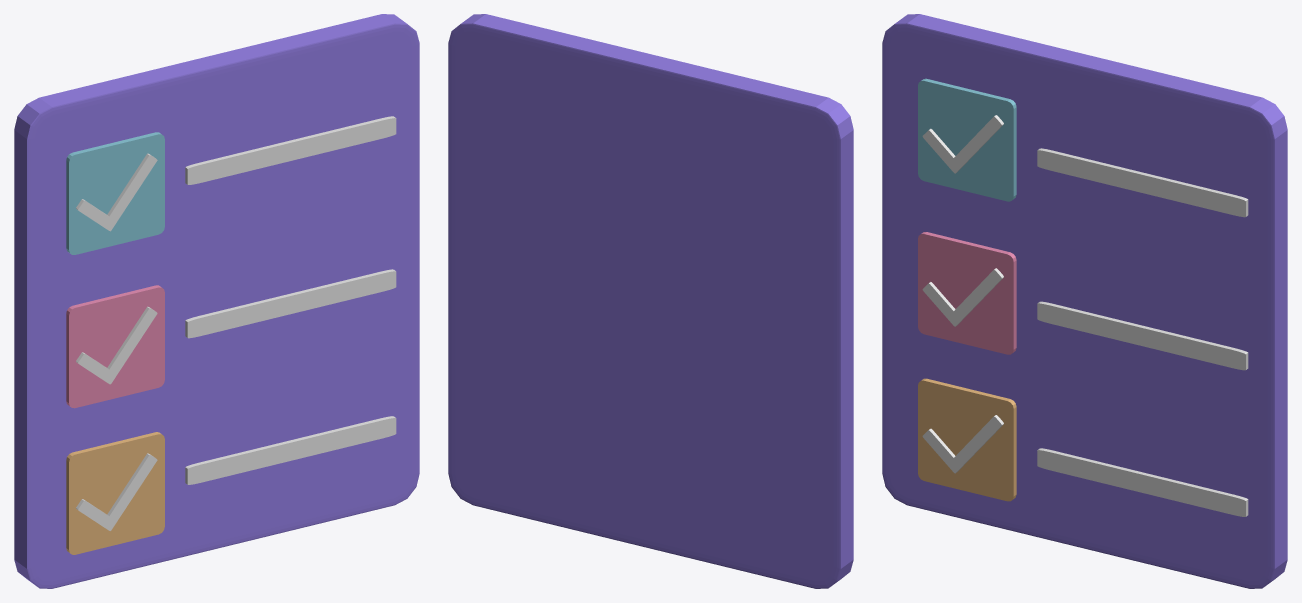
File: Checklist_purple.glb
3 views of the same model, side by side, from view 1: azimuth 30°, elevation 25°; view 2: azimuth 150°, elevation 25°; view 3: azimuth 330°, elevation 25° (orthographic).
Visible parts, largest first — view 1: Cube, Box_Checklist, Box_Checklist.001, Box_Checklist.002, Text.001, Text.002, Text, Check_Mark.001, Check_Mark, Check_Mark.002; view 2: Cube; view 3: Cube, Box_Checklist, Box_Checklist.002, Box_Checklist.001, Text.001, Text.002, Text, Check_Mark.002, Check_Mark.001, Check_Mark.
Boxes of the visible parts, x1=… form: Cube: x1=14, y1=14, x2=419, y2=588; Box_Checklist: x1=66, y1=132, x2=164, y2=254; Box_Checklist.001: x1=66, y1=285, x2=164, y2=408; Box_Checklist.002: x1=66, y1=432, x2=164, y2=554; Text.001: x1=185, y1=269, x2=396, y2=338; Text.002: x1=185, y1=416, x2=396, y2=484; Text: x1=185, y1=116, x2=396, y2=184; Check_Mark.001: x1=76, y1=306, x2=157, y2=384; Check_Mark: x1=76, y1=153, x2=157, y2=231; Check_Mark.002: x1=76, y1=453, x2=157, y2=530; Cube: x1=448, y1=14, x2=853, y2=588; Cube: x1=882, y1=14, x2=1287, y2=588; Box_Checklist: x1=918, y1=78, x2=1016, y2=201; Box_Checklist.002: x1=918, y1=378, x2=1016, y2=501; Box_Checklist.001: x1=918, y1=232, x2=1016, y2=354; Text.001: x1=1037, y1=301, x2=1248, y2=370; Text.002: x1=1037, y1=448, x2=1248, y2=516; Text: x1=1037, y1=148, x2=1248, y2=217; Check_Mark.002: x1=922, y1=415, x2=1003, y2=473; Check_Mark.001: x1=922, y1=268, x2=1003, y2=326; Check_Mark: x1=922, y1=115, x2=1003, y2=173.
Bounding box in the file's own units: 2 × 2.35 × 0.1635.
